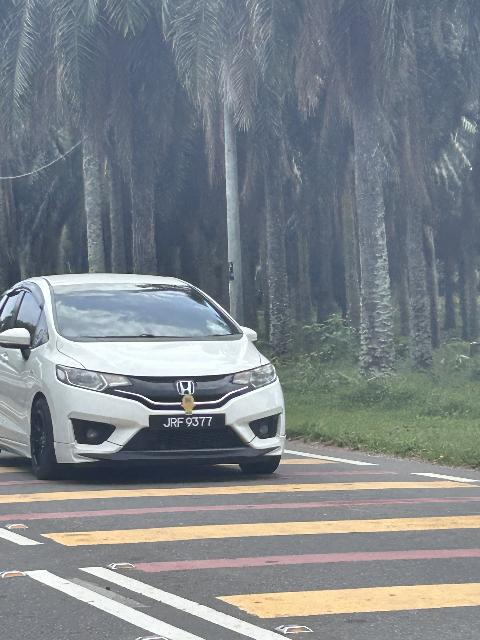License_Plate: (150, 413, 229, 438)
car: (1, 266, 291, 480)
